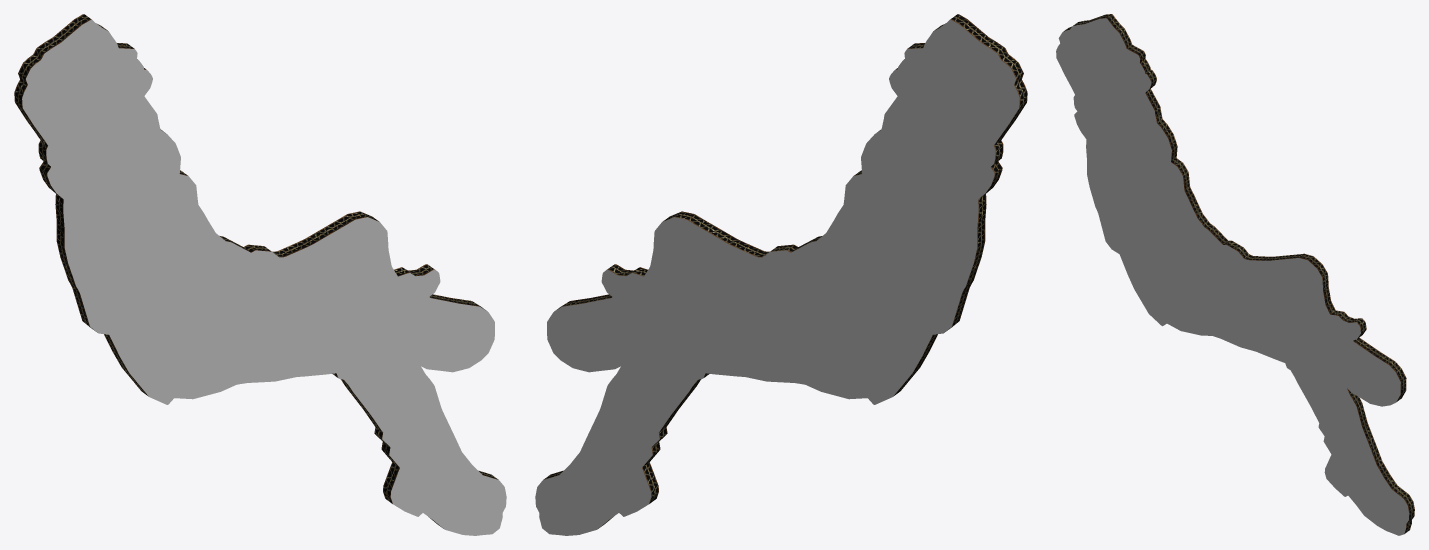
Rendered from NPC_Applicant_Badly_Dressed_Slouched_Female.FBX.
3 renders of one model, left to right at view 1: azimuth 30°, elevation 25°; view 2: azimuth 150°, elevation 25°; view 3: azimuth 330°, elevation 25°, orthographic. The views are drawn at different scales.
Parts seen in each view (by area): view 1: NPC_Applicant_Badly_Dressed_Slouched_Female; view 2: NPC_Applicant_Badly_Dressed_Slouched_Female; view 3: NPC_Applicant_Badly_Dressed_Slouched_Female.
Part boxes in pixels (<box>): NPC_Applicant_Badly_Dressed_Slouched_Female: <box>14,14,506,535</box>; NPC_Applicant_Badly_Dressed_Slouched_Female: <box>535,14,1027,535</box>; NPC_Applicant_Badly_Dressed_Slouched_Female: <box>1056,14,1414,535</box>.
Size of the model in its own units: 44.17 by 53.34 by 1.23.
